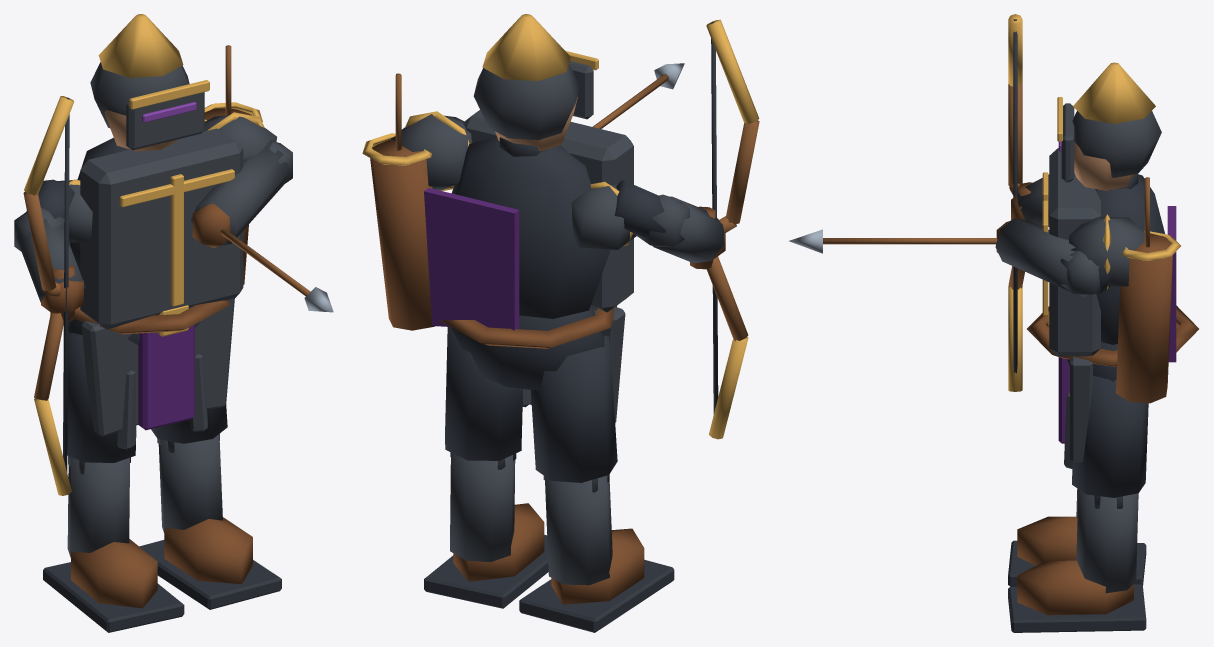
The picture shows the model from 3 angles, left to right: view 1: azimuth 30°, elevation 25°; view 2: azimuth 150°, elevation 25°; view 3: azimuth 270°, elevation 25°; orthographic projection. The views are drawn at different scales.
Parts seen in each view (by area): view 1: WK_Hegemony_LongbowWarden_LOD2_Compact_Static; view 2: WK_Hegemony_LongbowWarden_LOD2_Compact_Static; view 3: WK_Hegemony_LongbowWarden_LOD2_Compact_Static.
Boxes of the visible parts, x1,y1,x2,y2 form: WK_Hegemony_LongbowWarden_LOD2_Compact_Static: [14, 14, 333, 632]; WK_Hegemony_LongbowWarden_LOD2_Compact_Static: [362, 14, 759, 632]; WK_Hegemony_LongbowWarden_LOD2_Compact_Static: [789, 14, 1198, 632].
Size of the model in its own units: 1.16 by 2.03 by 1.43.
